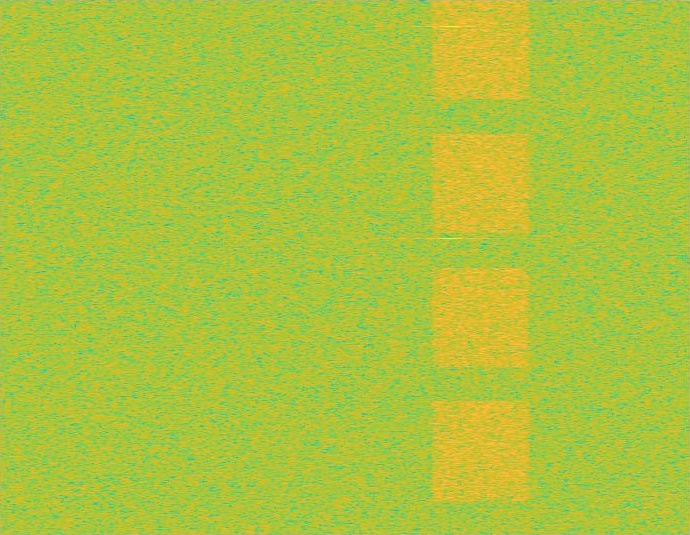5G: (429, 0, 533, 534)
Radar: (444, 0, 458, 534)
